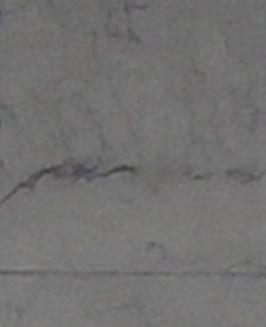fissura: (0, 143, 136, 225), (183, 157, 266, 192)
